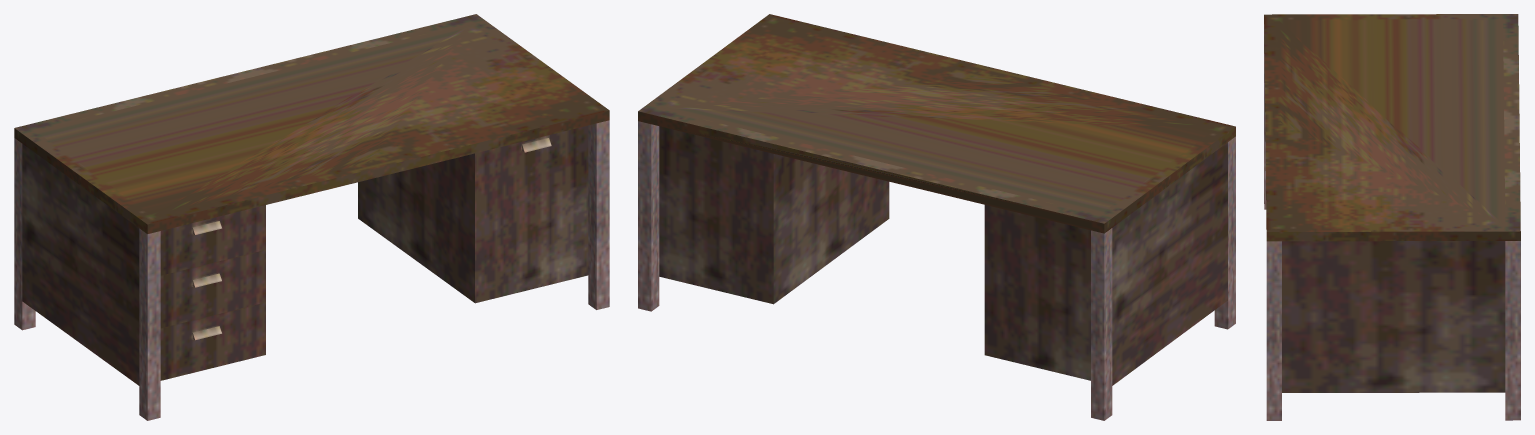
The model's file is desk1_alt_weathered.obj.
3 views of the same model, side by side, from view 1: azimuth 30°, elevation 25°; view 2: azimuth 150°, elevation 25°; view 3: azimuth 270°, elevation 25° (orthographic). The views are drawn at different scales.
Visible parts, largest first — view 1: desk1_alt_weathered; view 2: desk1_alt_weathered; view 3: desk1_alt_weathered.
Boxes of the visible parts, x1,y1,x2,y2 form: desk1_alt_weathered: [14, 14, 609, 420]; desk1_alt_weathered: [638, 14, 1235, 420]; desk1_alt_weathered: [1264, 14, 1520, 420].
Bounding box in the file's own units: 2.21 × 0.8911 × 1.1.
